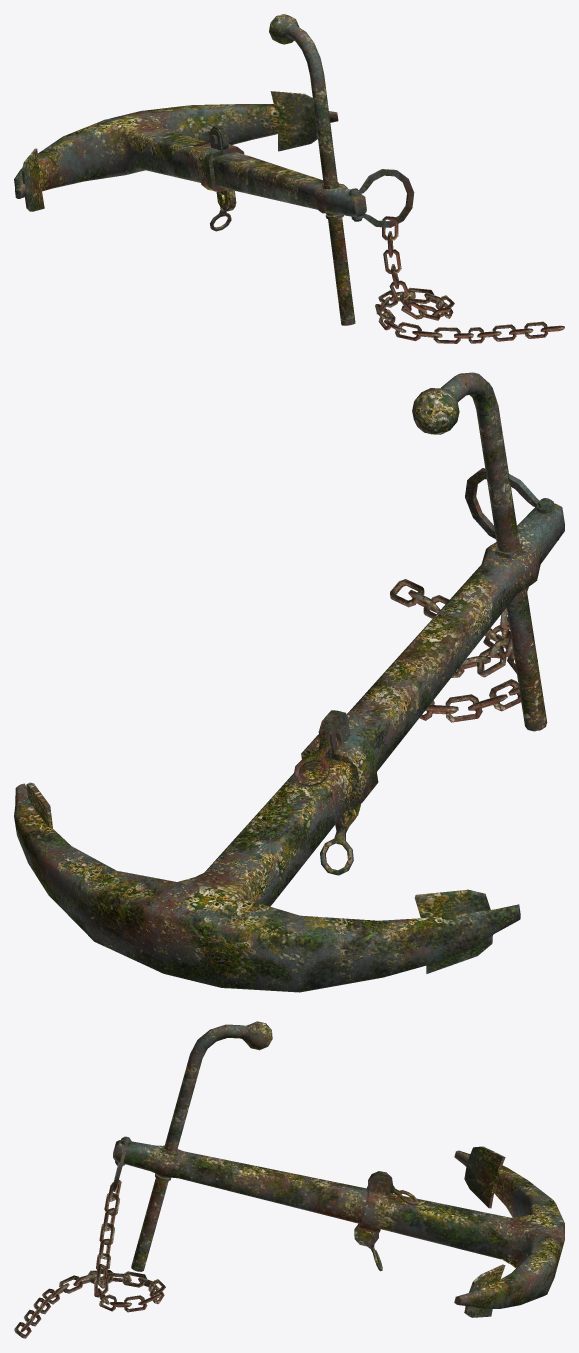
Rendered from Noget 1.fbx.
3 views of the same model, one above another, from view 1: azimuth 30°, elevation 25°; view 2: azimuth 150°, elevation 25°; view 3: azimuth 270°, elevation 25° (orthographic). The views are drawn at different scales.
Visible parts, largest first — view 1: obj1, obj5, obj6, obj2; view 2: obj1, obj5, obj6, obj2, obj3, obj4; view 3: obj1, obj5, obj6.
Boxes of the visible parts, x1,y1,x2,y2 form: obj1: (14, 91, 366, 216); obj5: (269, 14, 355, 325); obj6: (375, 216, 564, 343); obj2: (348, 169, 414, 227); obj1: (14, 503, 564, 992); obj5: (412, 372, 547, 731); obj6: (390, 579, 537, 722); obj2: (465, 468, 559, 540); obj3: (293, 710, 348, 786); obj4: (320, 816, 355, 875); obj1: (113, 1140, 564, 1317); obj5: (131, 1021, 272, 1271); obj6: (14, 1180, 165, 1338).
Size of the model in its own units: 9589 by 7524 by 15087.
